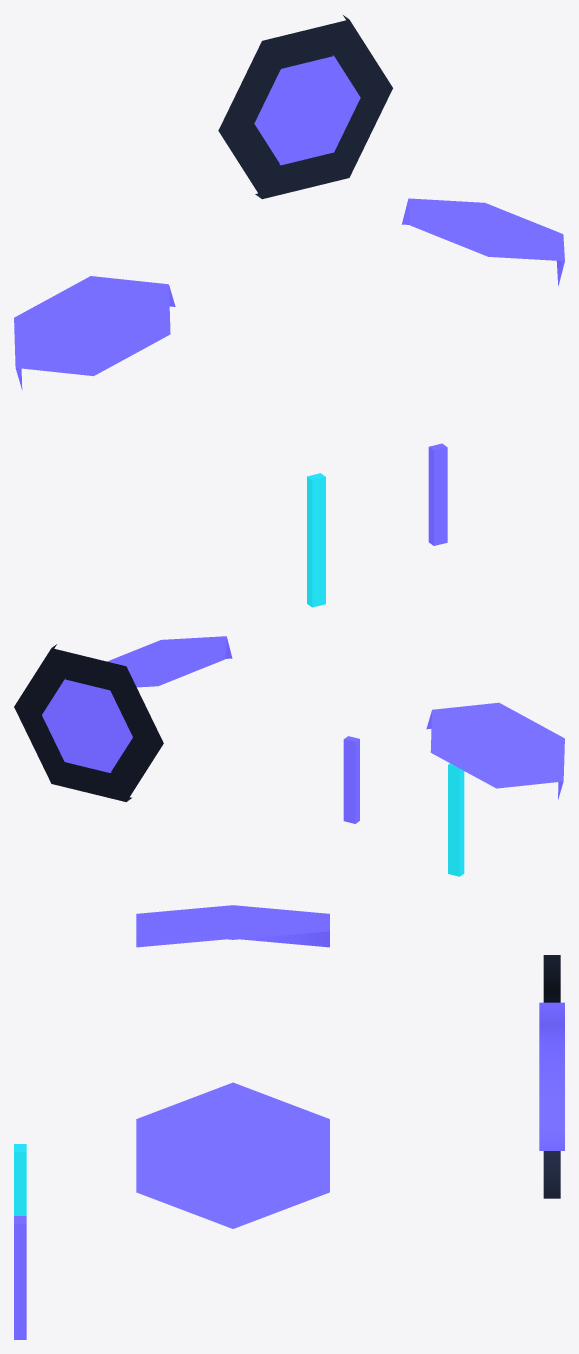
Rendered from avatar-aurora-kit-estrategista.glb.
3 renders of one model, top to bottom at view 1: azimuth 30°, elevation 25°; view 2: azimuth 150°, elevation 25°; view 3: azimuth 270°, elevation 25°, orthographic. The views are drawn at different scales.
Visible parts, largest first — view 1: kit_aurora_estrategista_badgeOuter, kit_aurora_estrategista_shoulderPlateR, kit_aurora_estrategista_badgeInner, kit_aurora_estrategista_shoulderPlateL, kit_aurora_estrategista_circuitA, kit_aurora_estrategista_circuitB; view 2: kit_aurora_estrategista_badgeOuter, kit_aurora_estrategista_shoulderPlateR, kit_aurora_estrategista_badgeInner, kit_aurora_estrategista_shoulderPlateL, kit_aurora_estrategista_circuitA, kit_aurora_estrategista_circuitB; view 3: kit_aurora_estrategista_shoulderPlateL, kit_aurora_estrategista_shoulderPlateR, kit_aurora_estrategista_badgeInner, kit_aurora_estrategista_badgeOuter, kit_aurora_estrategista_circuitB, kit_aurora_estrategista_circuitA.
Boxes of the visible parts, x1,y1,x2,y2 form: kit_aurora_estrategista_badgeOuter: (218, 15, 392, 199); kit_aurora_estrategista_shoulderPlateR: (14, 276, 175, 389); kit_aurora_estrategista_badgeInner: (254, 55, 360, 165); kit_aurora_estrategista_shoulderPlateL: (401, 198, 564, 285); kit_aurora_estrategista_circuitA: (307, 473, 325, 607); kit_aurora_estrategista_circuitB: (428, 443, 447, 545); kit_aurora_estrategista_badgeOuter: (14, 644, 163, 802); kit_aurora_estrategista_shoulderPlateR: (426, 702, 564, 799); kit_aurora_estrategista_badgeInner: (42, 678, 132, 772); kit_aurora_estrategista_shoulderPlateL: (107, 636, 232, 687); kit_aurora_estrategista_circuitA: (448, 763, 464, 876); kit_aurora_estrategista_circuitB: (343, 736, 359, 823); kit_aurora_estrategista_shoulderPlateL: (136, 1082, 329, 1228); kit_aurora_estrategista_shoulderPlateR: (136, 905, 329, 947); kit_aurora_estrategista_badgeInner: (539, 1002, 564, 1150); kit_aurora_estrategista_badgeOuter: (543, 955, 560, 1198); kit_aurora_estrategista_circuitB: (14, 1216, 26, 1339); kit_aurora_estrategista_circuitA: (14, 1144, 26, 1215).
Size of the model in its own units: 0.7207 by 0.4596 by 0.518.
